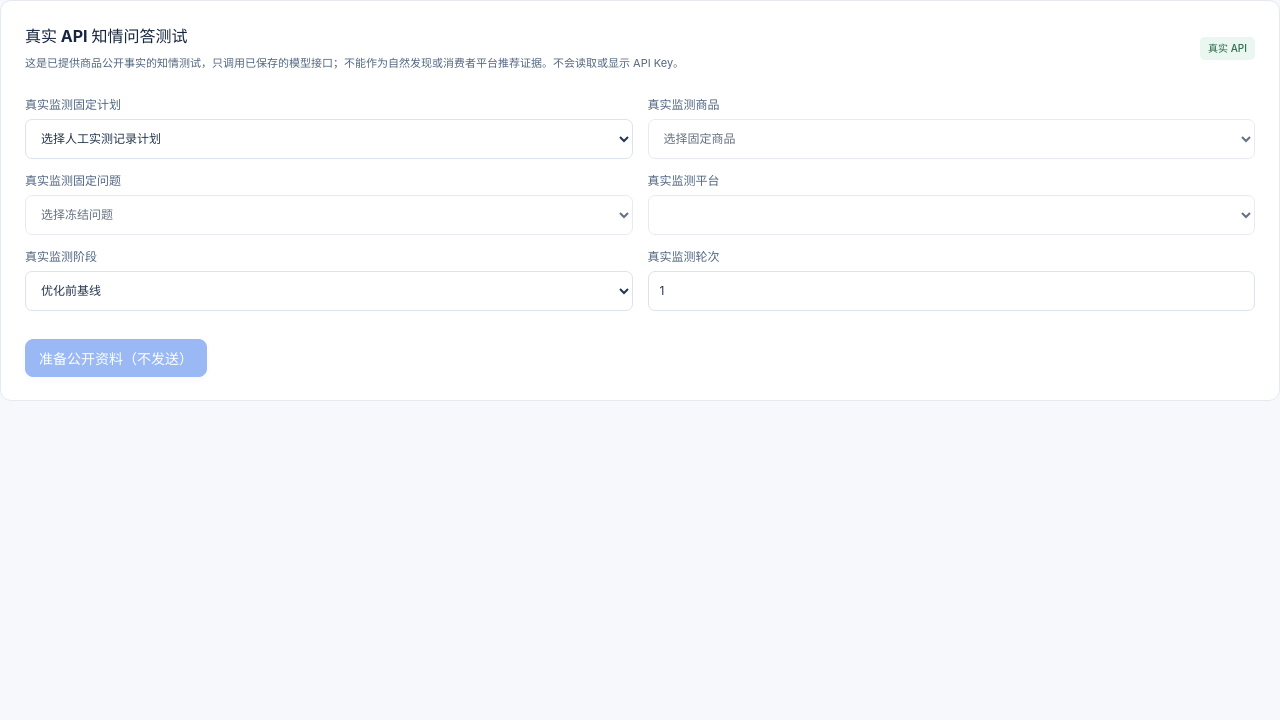
Test: prepares without sending and requires explicit public-data billing consent
This screenshot has width=1280, height=720.
Select "虚构真实监测计划" in the dropdown labelled "真实监测固定计划" at (329, 139), box [25, 119, 632, 159]
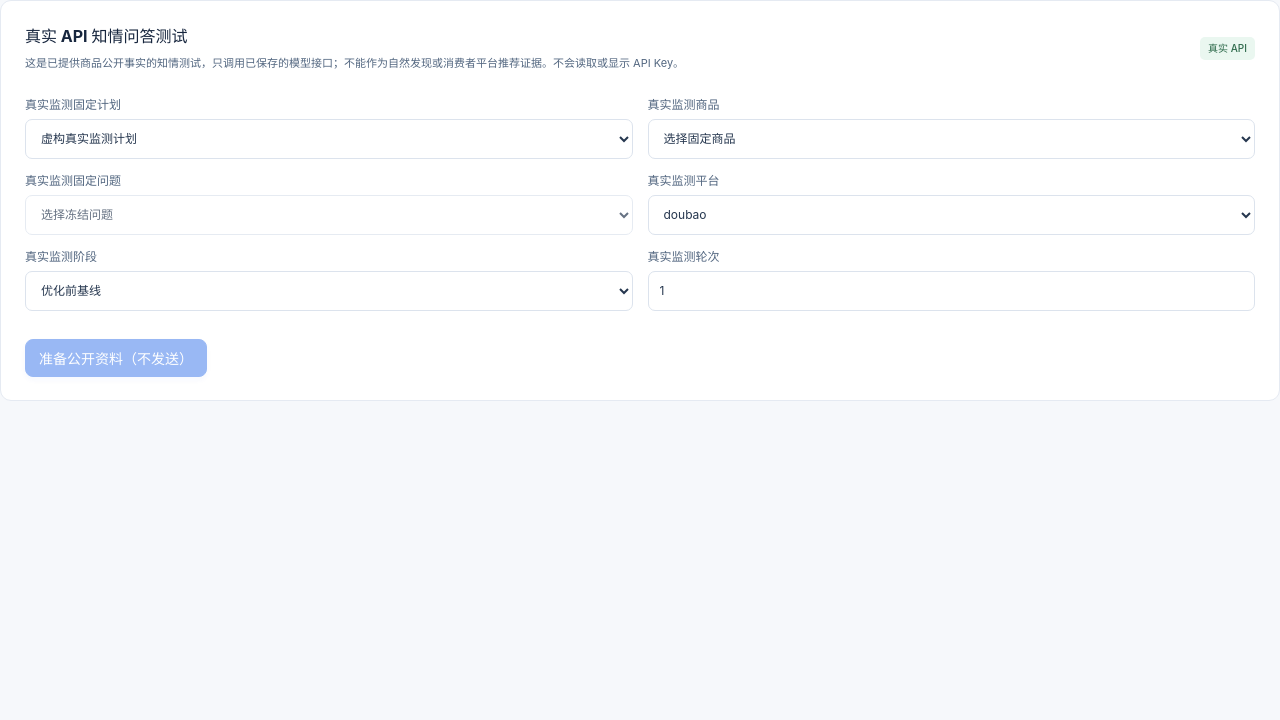
Select "虚构商品" in the dropdown labelled "真实监测商品" at (951, 139), box [648, 119, 1255, 159]
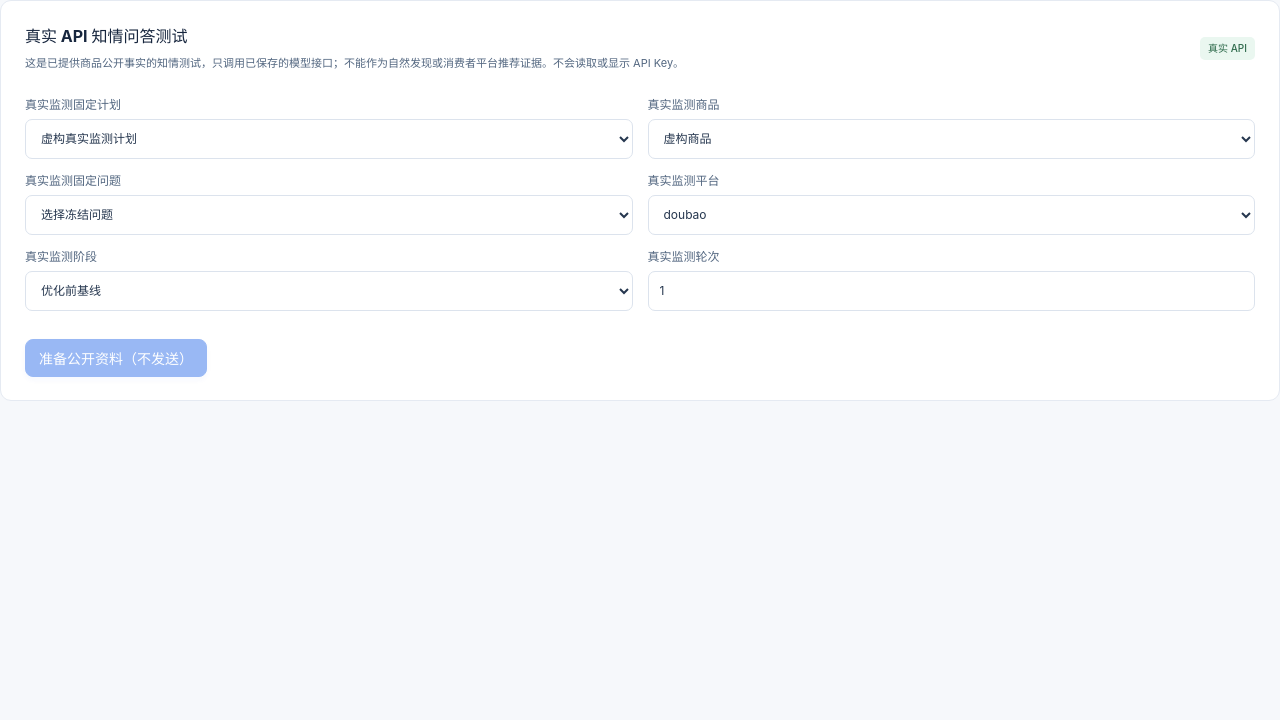
Select "家用容量如何选择？" in the dropdown labelled "真实监测固定问题" at (329, 215), box [25, 195, 632, 235]
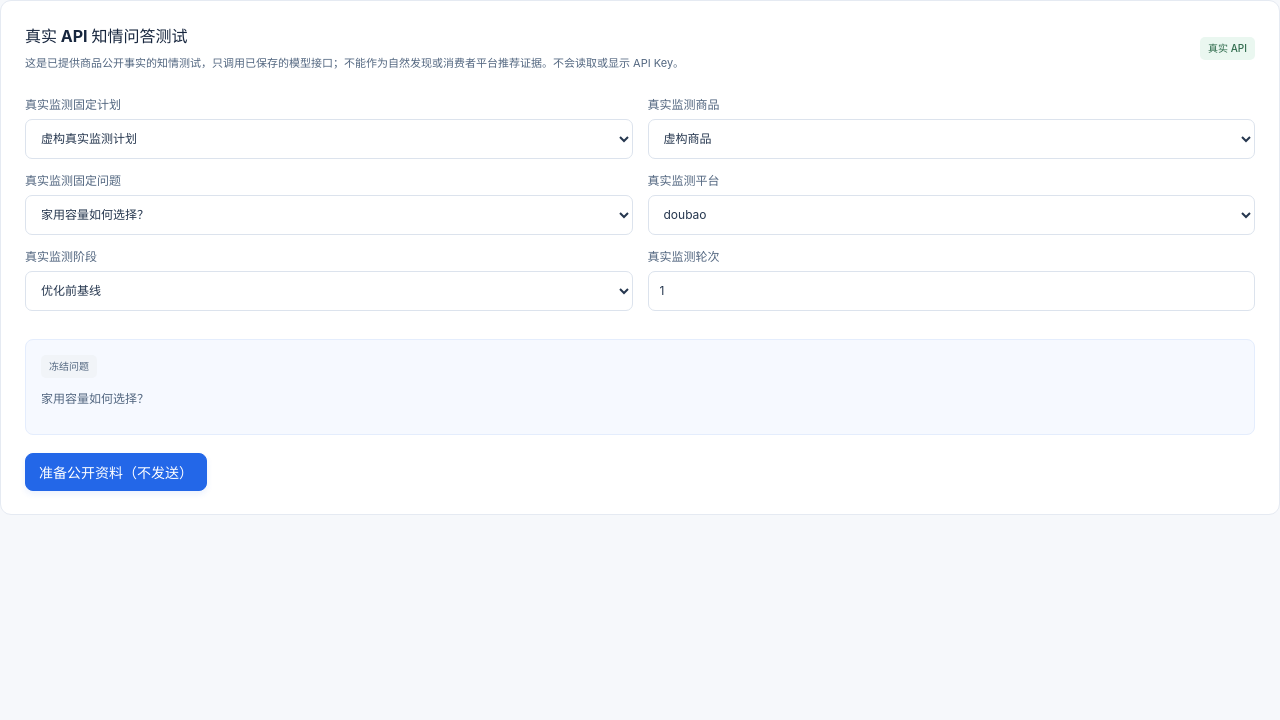
Click the button "准备公开资料（不发送）" at (116, 472), box [25, 453, 207, 491]
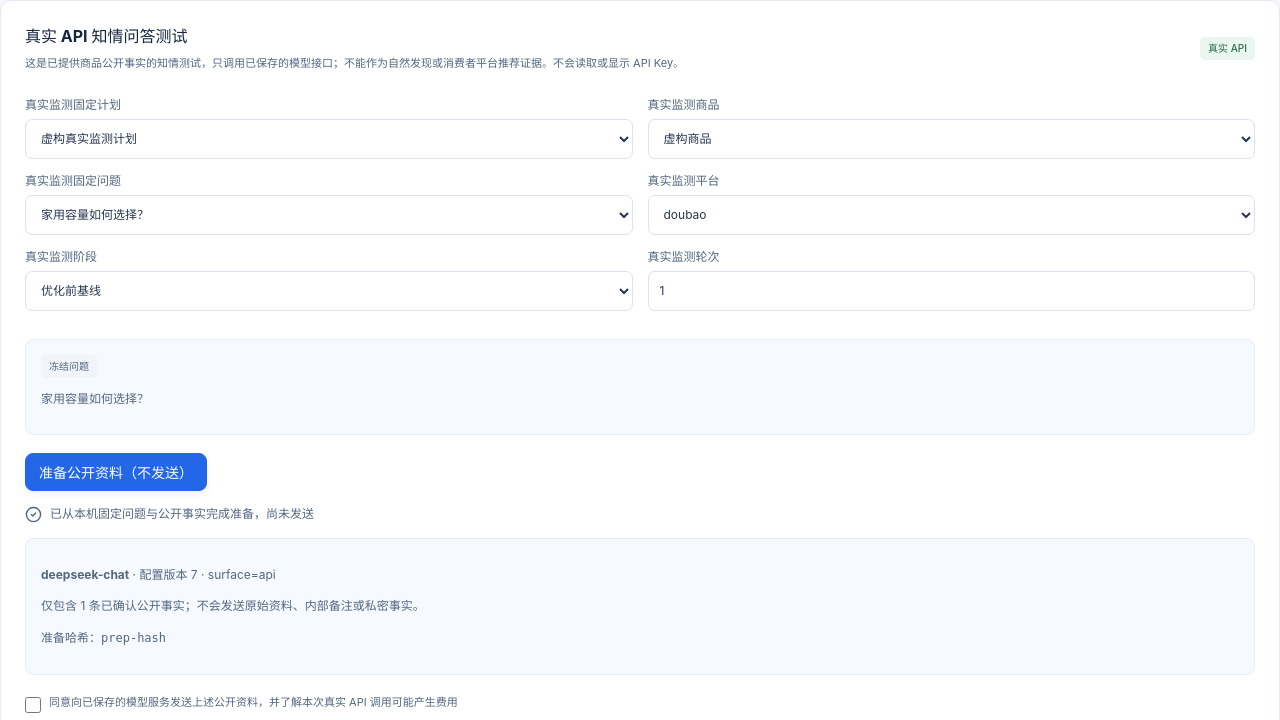
Check: the heading "真实 API 知情问答测试" is shown, box [25, 26, 187, 46]
Check: the text "prep-hash" is shown, box [101, 631, 166, 645]
Click the checkbox labelled "同意向已保存的模型服务发送上述公开资料，并了解本次真实 API 调用可能产生费用" at (33, 706), box [25, 698, 41, 714]
(page scrolled)
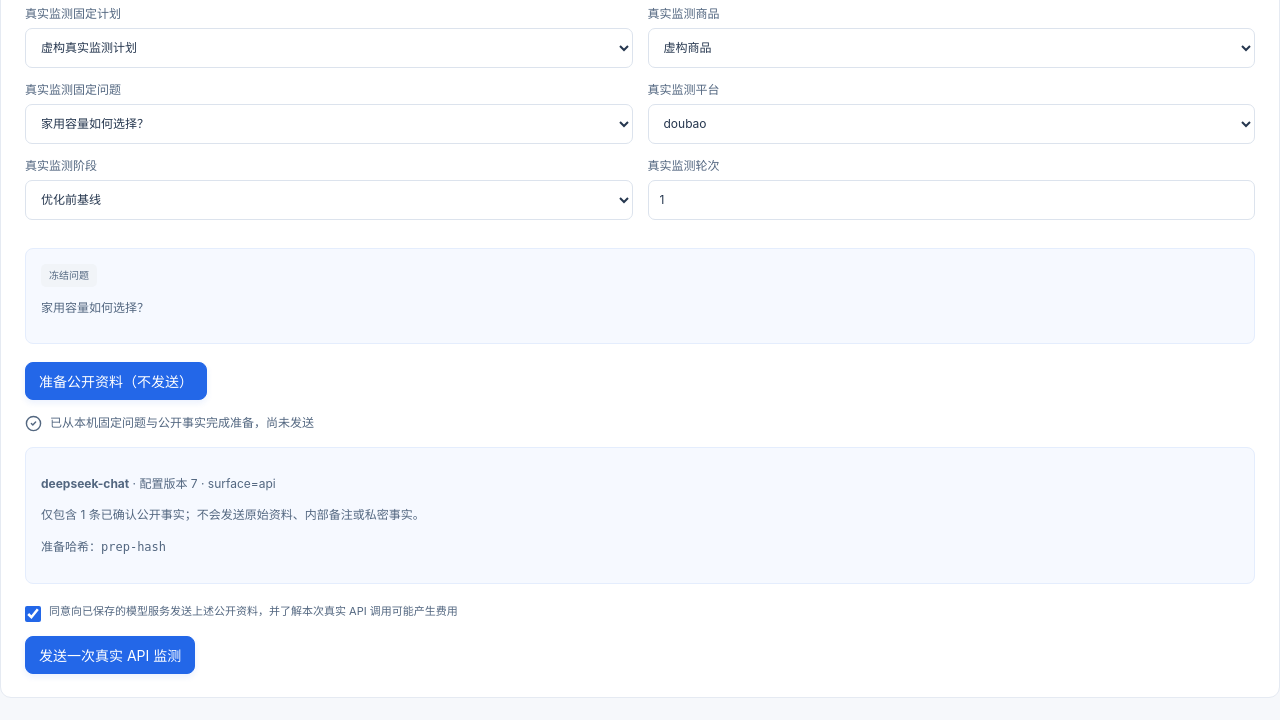
Check: the button "发送一次真实 API 监测" is enabled
Click the button "发送一次真实 API 监测" at (110, 656), box [25, 636, 195, 674]
(page scrolled)
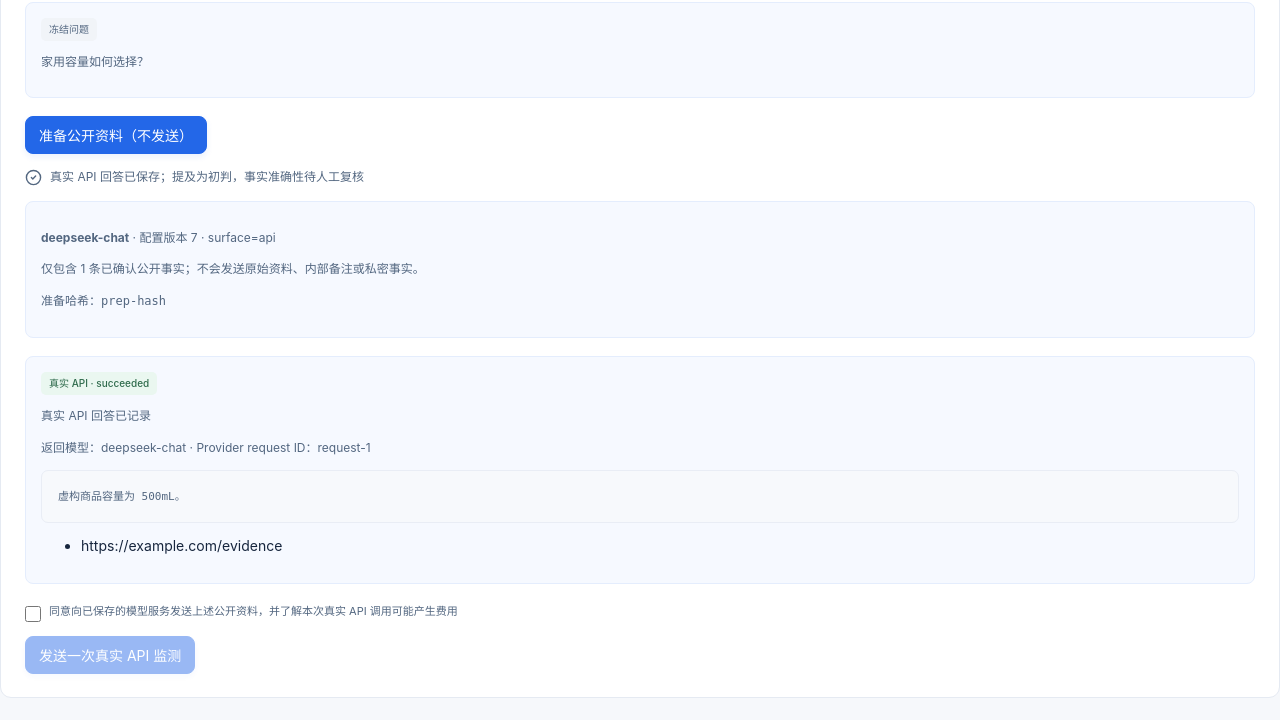
Check: the text "虚构商品容量为 500mL。" is shown, box [41, 470, 1239, 523]
Check: the list item "https://example.com/evidence" is shown, box [81, 537, 282, 554]
